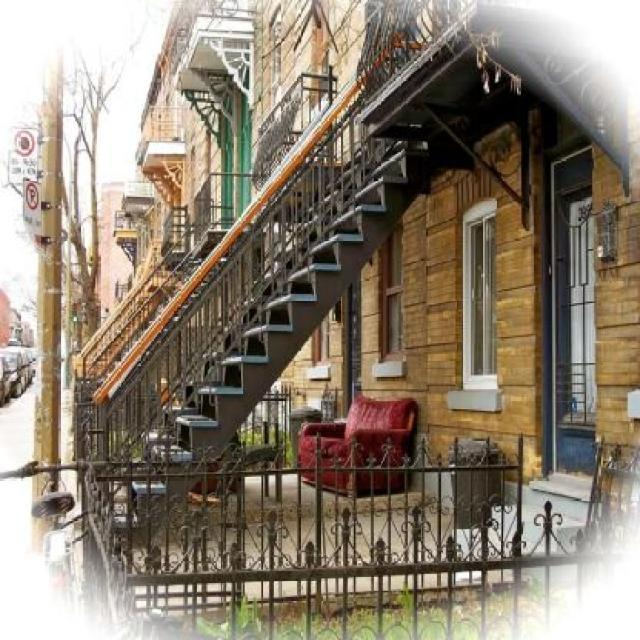stair: (106, 140, 454, 554)
